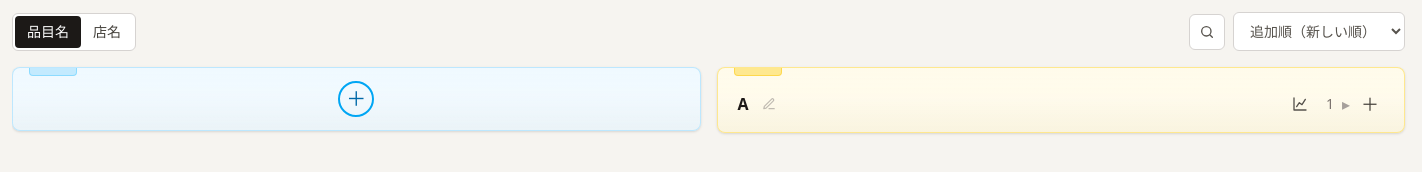
FoldersPage record mutation races › does not apply listAllRecords when folders revision changes during fetch
Click the button named "すべての記録".
click(1330, 104)  # box [1320,90,1340,118]
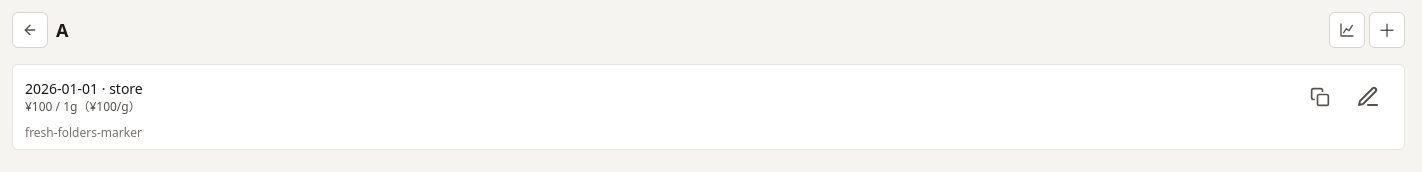
Expected: the text "fresh-folders-marker" is shown, [25,124,142,141]
